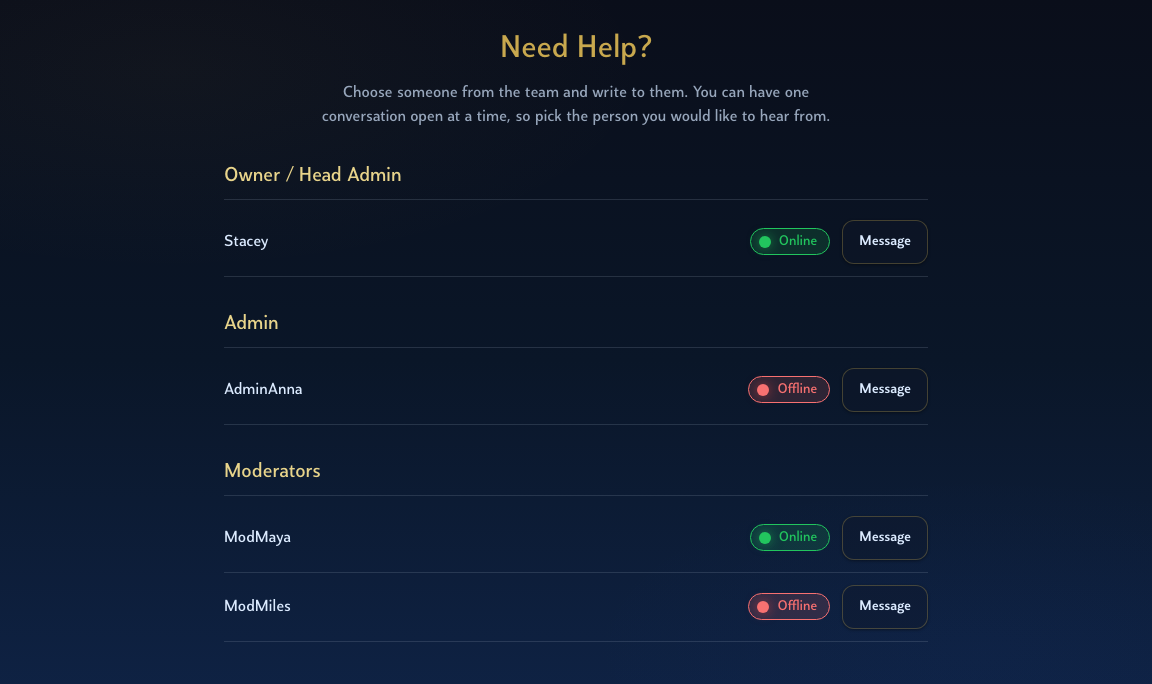
NeedHelpPage › shows friendly copy for helpCooldown and keeps what was typed
Click the button with aria-label "Message Stacey".
click(885, 242)  # box 842,220 -> 928,264
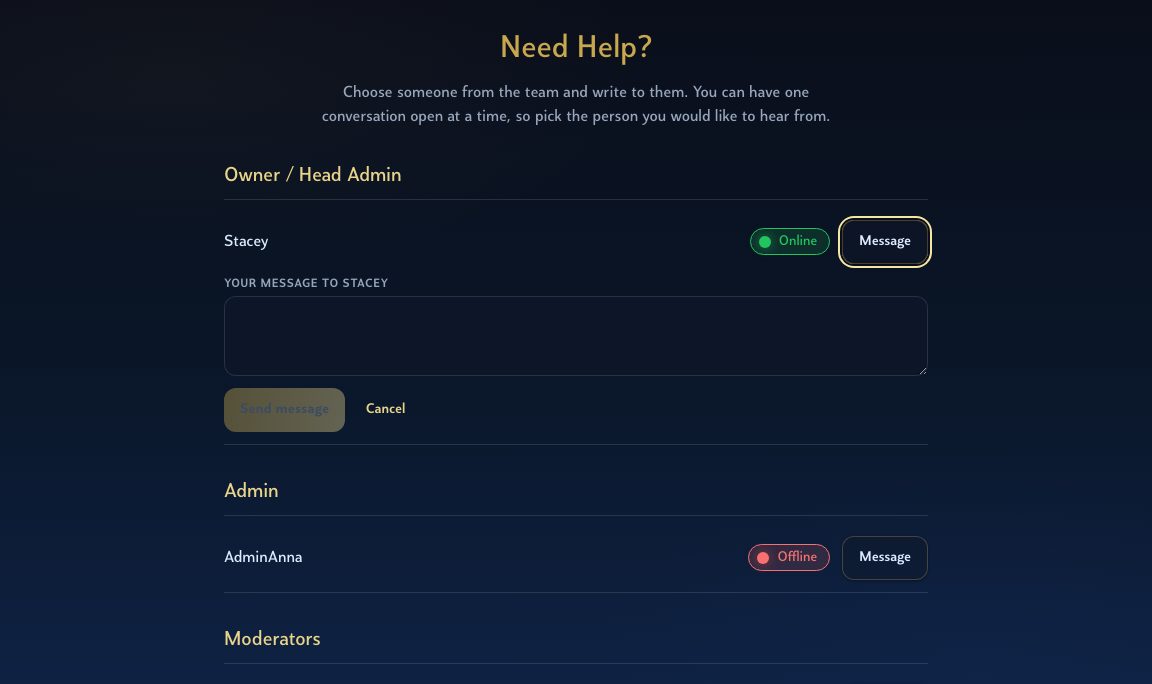
Type "hello there" into the text box labelled "Your message to Stacey".
click(576, 336); type("hello there")  # box 224,296 -> 928,376
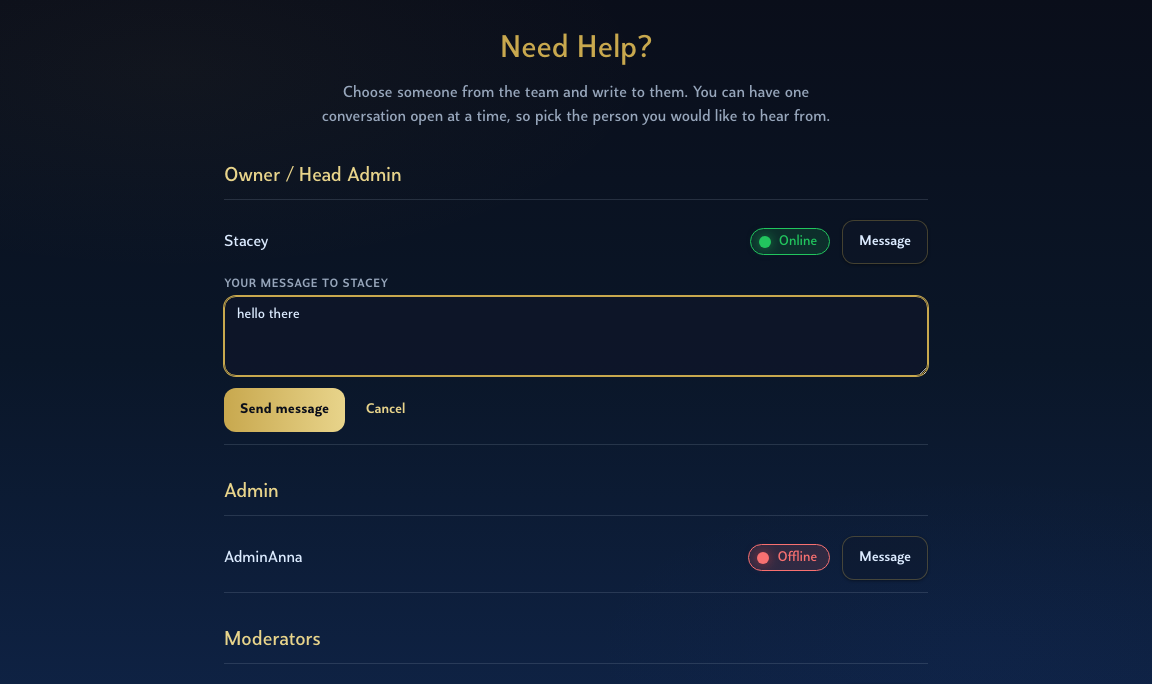
Click the button "Send message".
click(285, 410)  # box 224,388 -> 345,432
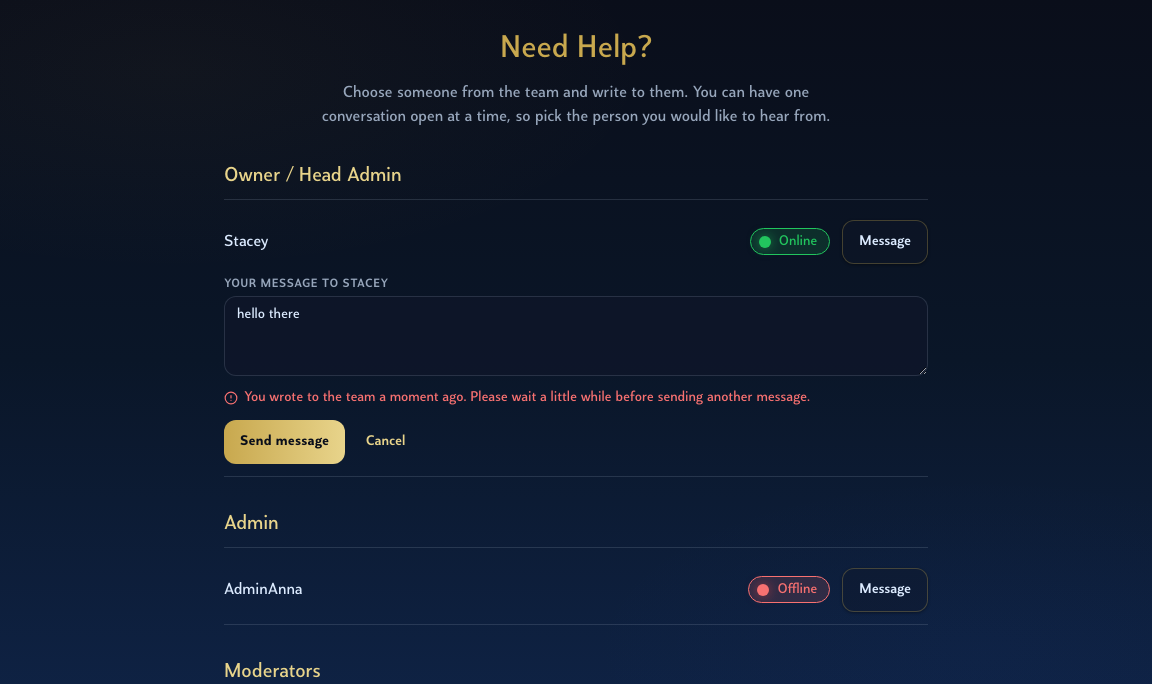
Expected: the message does not show "helpCooldown", 224,390 -> 810,405
Result: the message shows "wrote to the team a moment ago" at 244,390 -> 810,405
